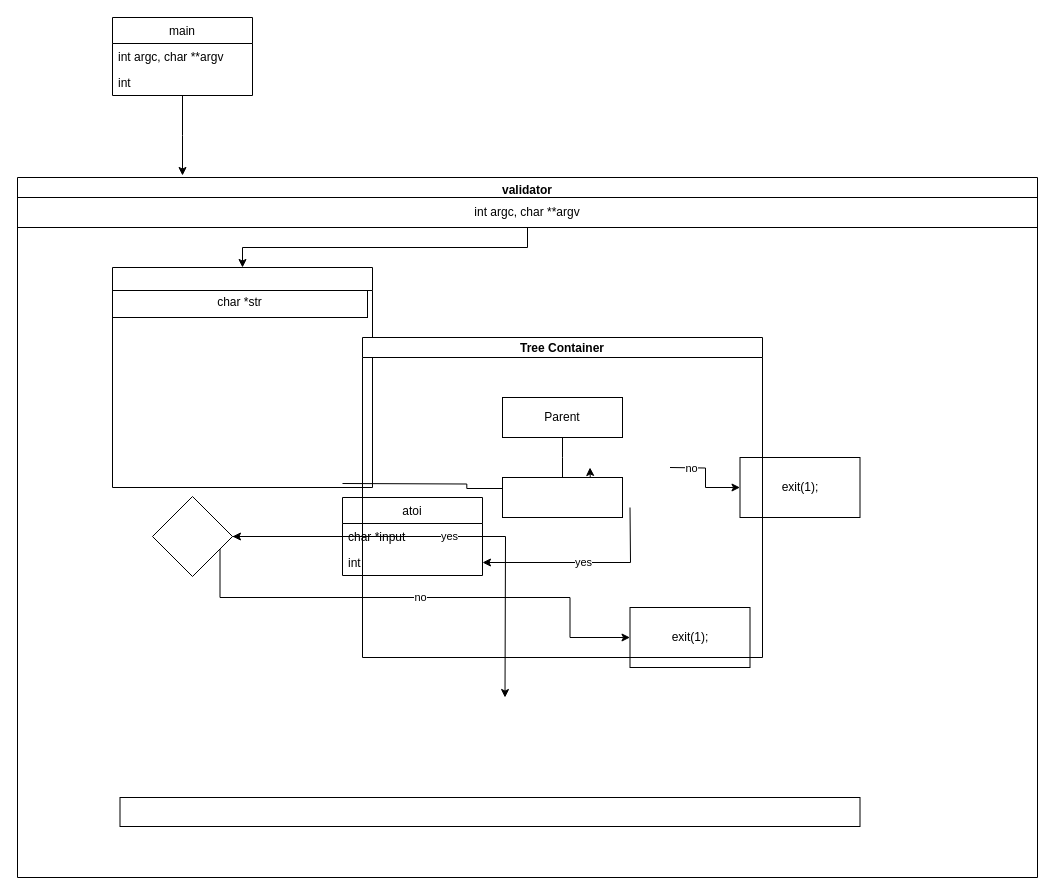
Some shapes in this 1055 by 895 pixel diagram are drawn without their labels. The shapes that lost their labels are listed below. From the top down, each one's centre as x and y in pixels, then its label:
At (x=242, y=377): "validator_num".
At (x=562, y=497): "Child".
At (x=192, y=536): "int type?".
At (x=489, y=811): "v_num".
